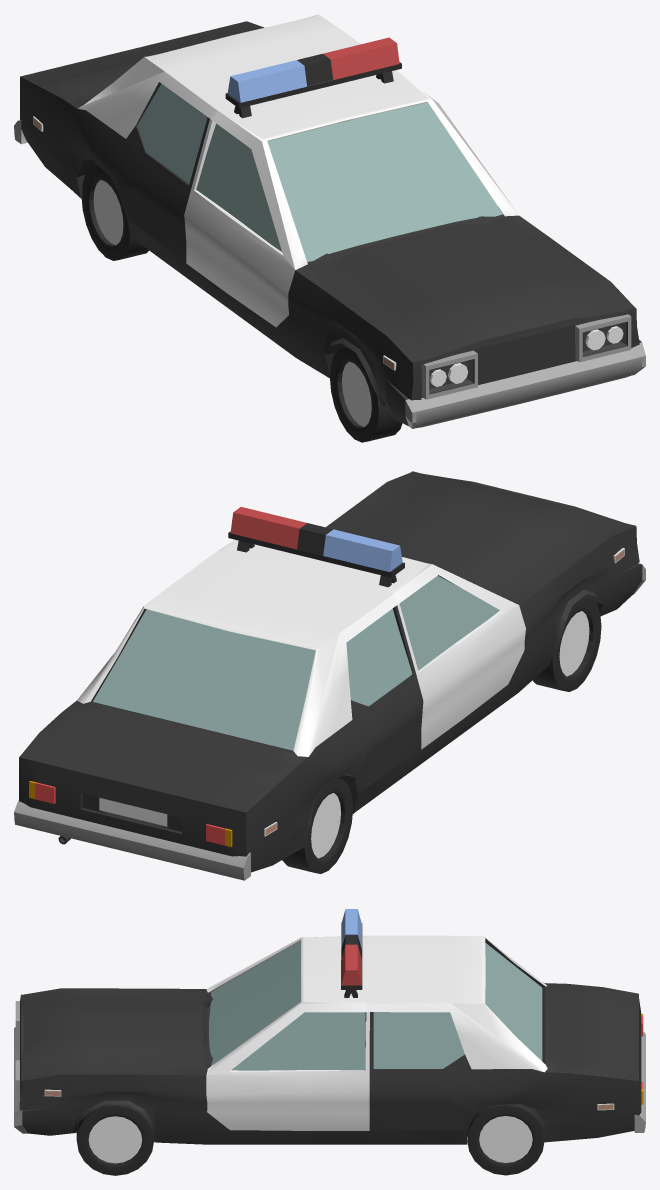
The model's file is Police.fbx.
The picture shows the model from 3 angles, top to bottom: view 1: azimuth 30°, elevation 25°; view 2: azimuth 150°, elevation 25°; view 3: azimuth 270°, elevation 25°; orthographic projection. The views are drawn at different scales.
Visible parts, largest first — view 1: Car_Body, FR, RR; view 2: Car_Body, RR, FR; view 3: Car_Body, RL, FL.
Part boxes in pixels (box(x1,y1,x2,y2)): Car_Body: box(14, 14, 645, 428); FR: box(330, 347, 402, 442); RR: box(81, 165, 148, 260); Car_Body: box(14, 471, 645, 880); RR: box(282, 778, 352, 873); FR: box(532, 596, 601, 691); Car_Body: box(14, 909, 645, 1144); RL: box(467, 1104, 544, 1175); FL: box(76, 1104, 153, 1175).
Size of the model in its own units: 246 by 235 by 703.
